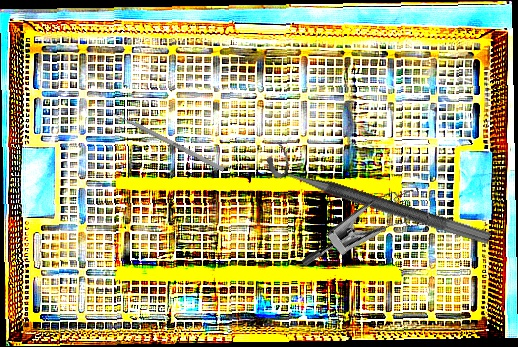Fixation Ring: (262, 140, 498, 247)
Pusher: (104, 107, 225, 172)
Speculum: (299, 162, 443, 308)
